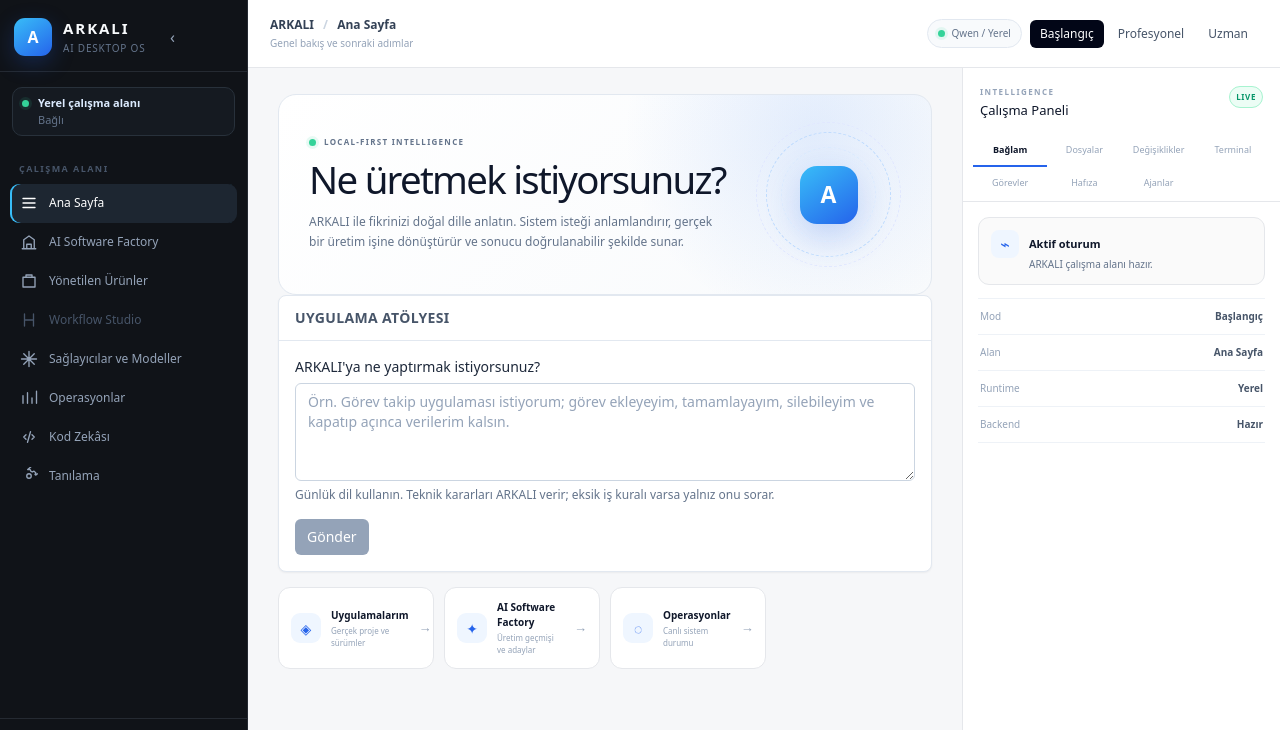
Test: Visual Workflow Studio page › starts an execution, shows a HUMAN APPROVAL pause, and completes it on approval
The width and height of the screenshot is (1280, 730).
Click the button "Uzman": [1228, 34] box [1198,20,1258,48]
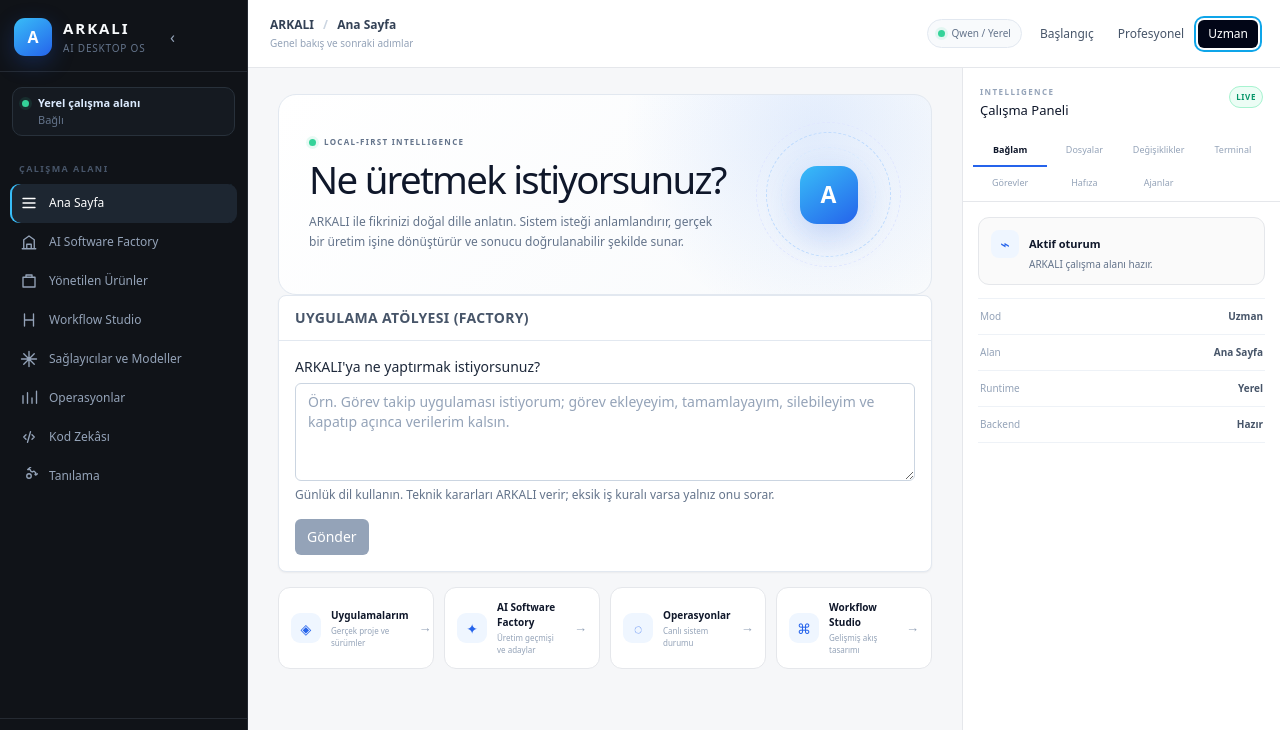
Click the button "Workflow Studio": [124, 320] box [10,300,237,340]
(page scrolled)
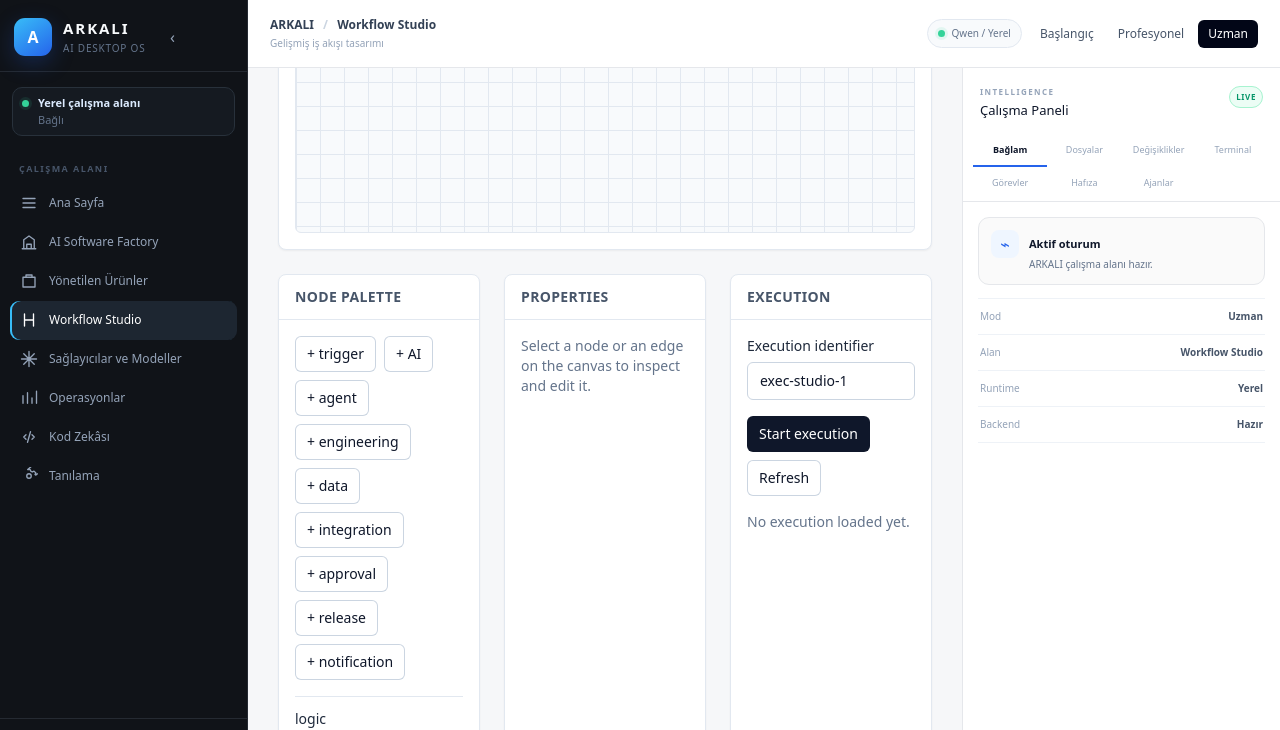
Click the button "Start execution": [808, 434] box [747,416,870,452]
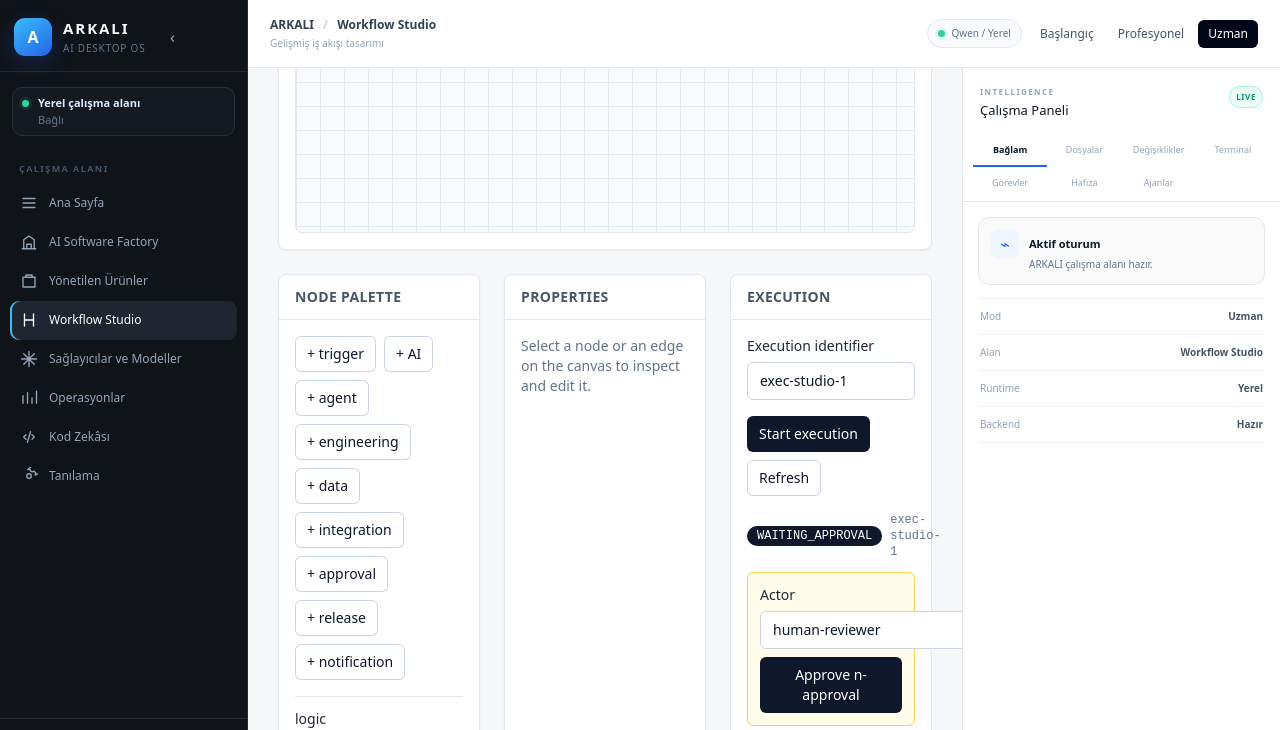
Check: the text "WAITING_APPROVAL" is shown, box [747,526,882,546]
Click the button "Approve n-approval": [831, 685] box [760,657,902,713]
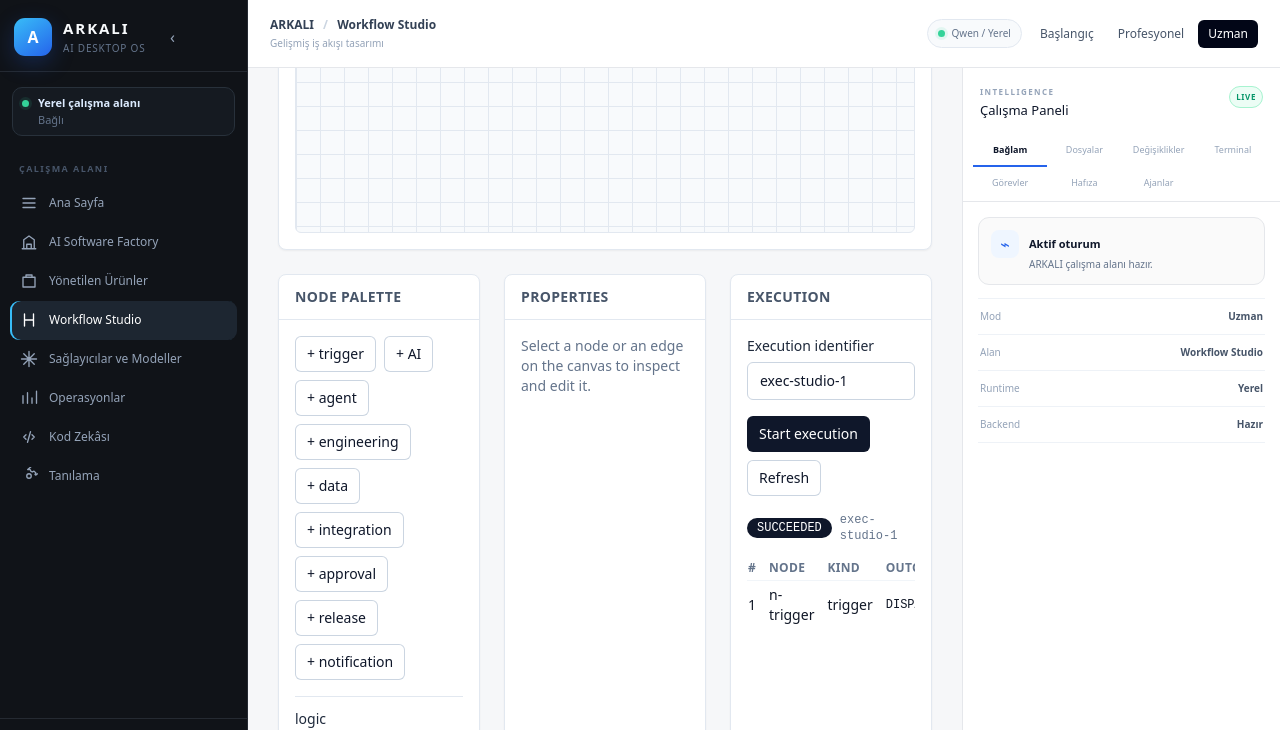
Check: the text "SUCCEEDED" is shown, box [747,518,832,538]
